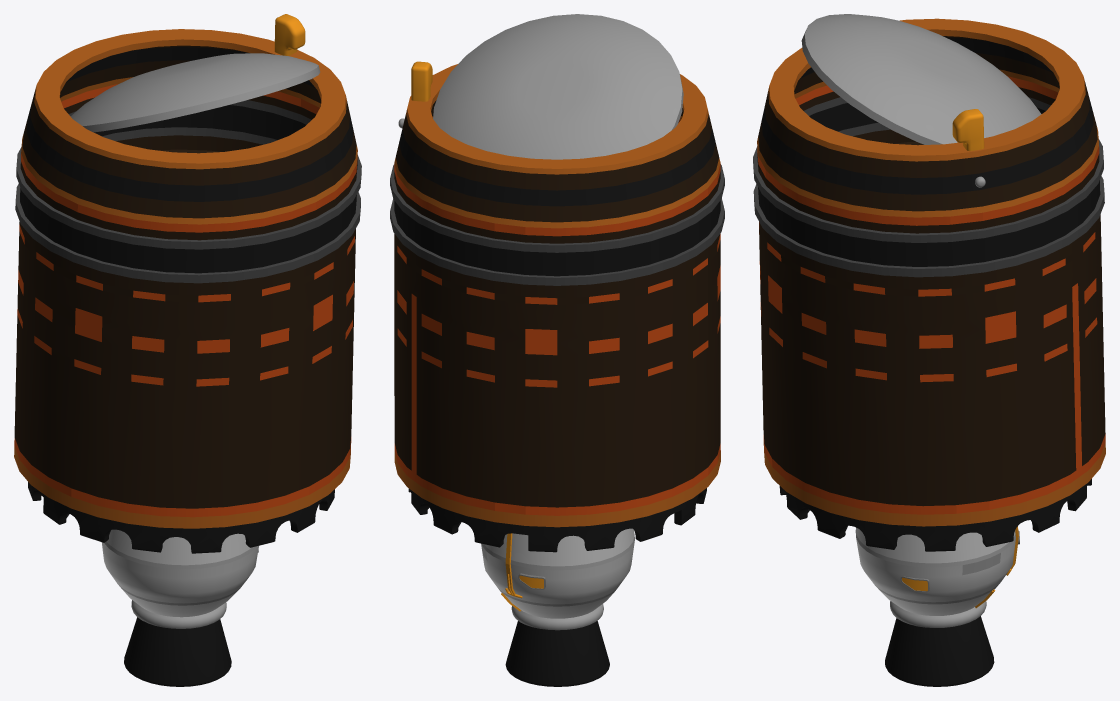
Rendered from PalapaB.gltf.
3 renders of one model, left to right at view 1: azimuth 30°, elevation 25°; view 2: azimuth 150°, elevation 25°; view 3: azimuth 270°, elevation 25°, orthographic. The views are drawn at different scales.
Visible parts, largest first — view 1: Cylinder.001; view 2: Cylinder.001; view 3: Cylinder.001.
Part boxes in pixels (x1,y1,x2,y2): Cylinder.001: (14,14,361,686); Cylinder.001: (390,14,724,686); Cylinder.001: (753,14,1105,686).
Bounding box in the file's own units: 1.19 × 2.37 × 1.2.
